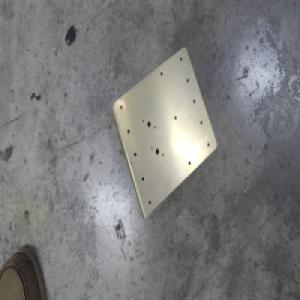MetalSheet: (109, 45, 217, 221)
